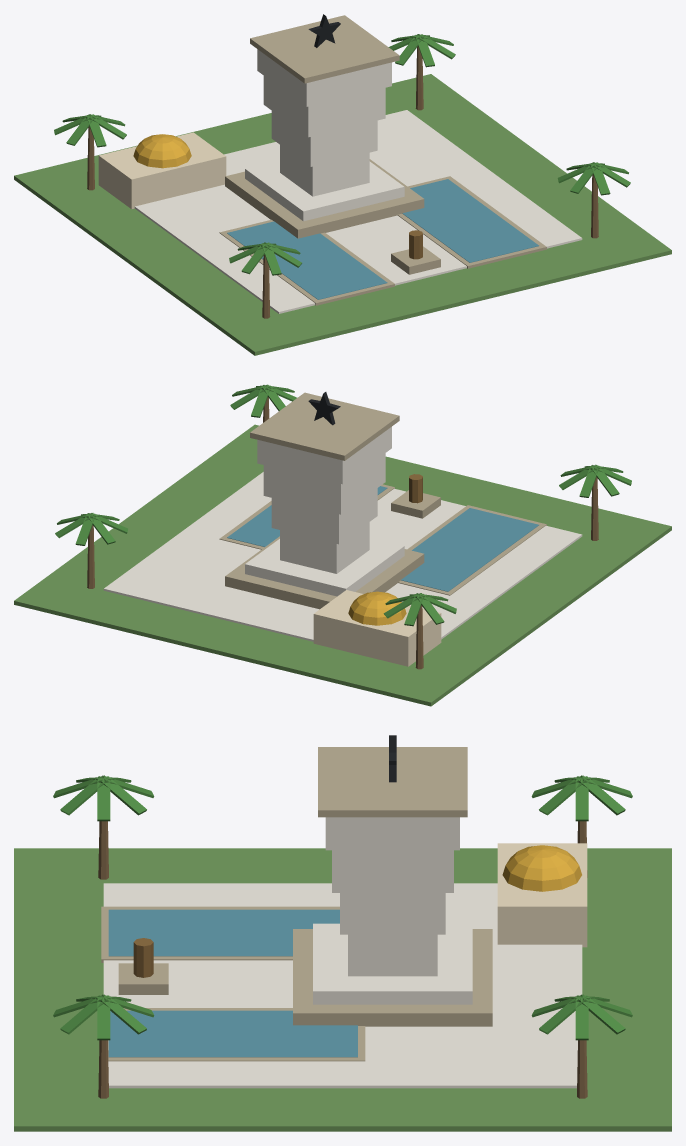
Rendered from memorial.glb.
3 renders of one model, top to bottom at view 1: azimuth 30°, elevation 25°; view 2: azimuth 150°, elevation 25°; view 3: azimuth 270°, elevation 25°, orthographic. The views are drawn at different scales.
Parts seen in each view (by area): view 1: memorial_grass, memorial_marble, memorial_stone_dark, memorial_water, memorial_cream, memorial_leaf, memorial_trunk, memorial_dome_gold; view 2: memorial_grass, memorial_marble, memorial_stone_dark, memorial_water, memorial_cream, memorial_leaf, memorial_trunk, memorial_dome_gold, memorial_black; view 3: memorial_grass, memorial_marble, memorial_stone_dark, memorial_water, memorial_leaf, memorial_cream, memorial_dome_gold, memorial_trunk, memorial_bronze.
Boxes of the visible parts, <box> form: memorial_grass: <box>14,74,671,355</box>; memorial_marble: <box>134,49,582,313</box>; memorial_stone_dark: <box>219,15,546,305</box>; memorial_water: <box>227,179,538,299</box>; memorial_cream: <box>98,132,226,209</box>; memorial_leaf: <box>54,34,630,275</box>; memorial_trunk: <box>87,46,598,318</box>; memorial_dome_gold: <box>133,134,191,168</box>; memorial_grass: <box>14,424,671,706</box>; memorial_marble: <box>103,427,582,641</box>; memorial_stone_dark: <box>219,392,546,609</box>; memorial_water: <box>227,486,538,591</box>; memorial_cream: <box>313,590,441,666</box>; memorial_leaf: <box>55,384,631,626</box>; memorial_trunk: <box>87,397,598,669</box>; memorial_dome_gold: <box>348,591,406,625</box>; memorial_black: <box>308,392,340,425</box>; memorial_grass: <box>14,848,671,1131</box>; memorial_marble: <box>103,817,582,1088</box>; memorial_stone_dark: <box>101,747,492,1061</box>; memorial_water: <box>108,909,357,1057</box>; memorial_leaf: <box>53,775,632,1040</box>; memorial_cream: <box>497,843,587,947</box>; memorial_dome_gold: <box>502,845,581,891</box>; memorial_trunk: <box>98,821,587,1098</box>; memorial_bronze: <box>133,938,153,977</box>.
Size of the model in its own units: 132 by 57 by 132.
